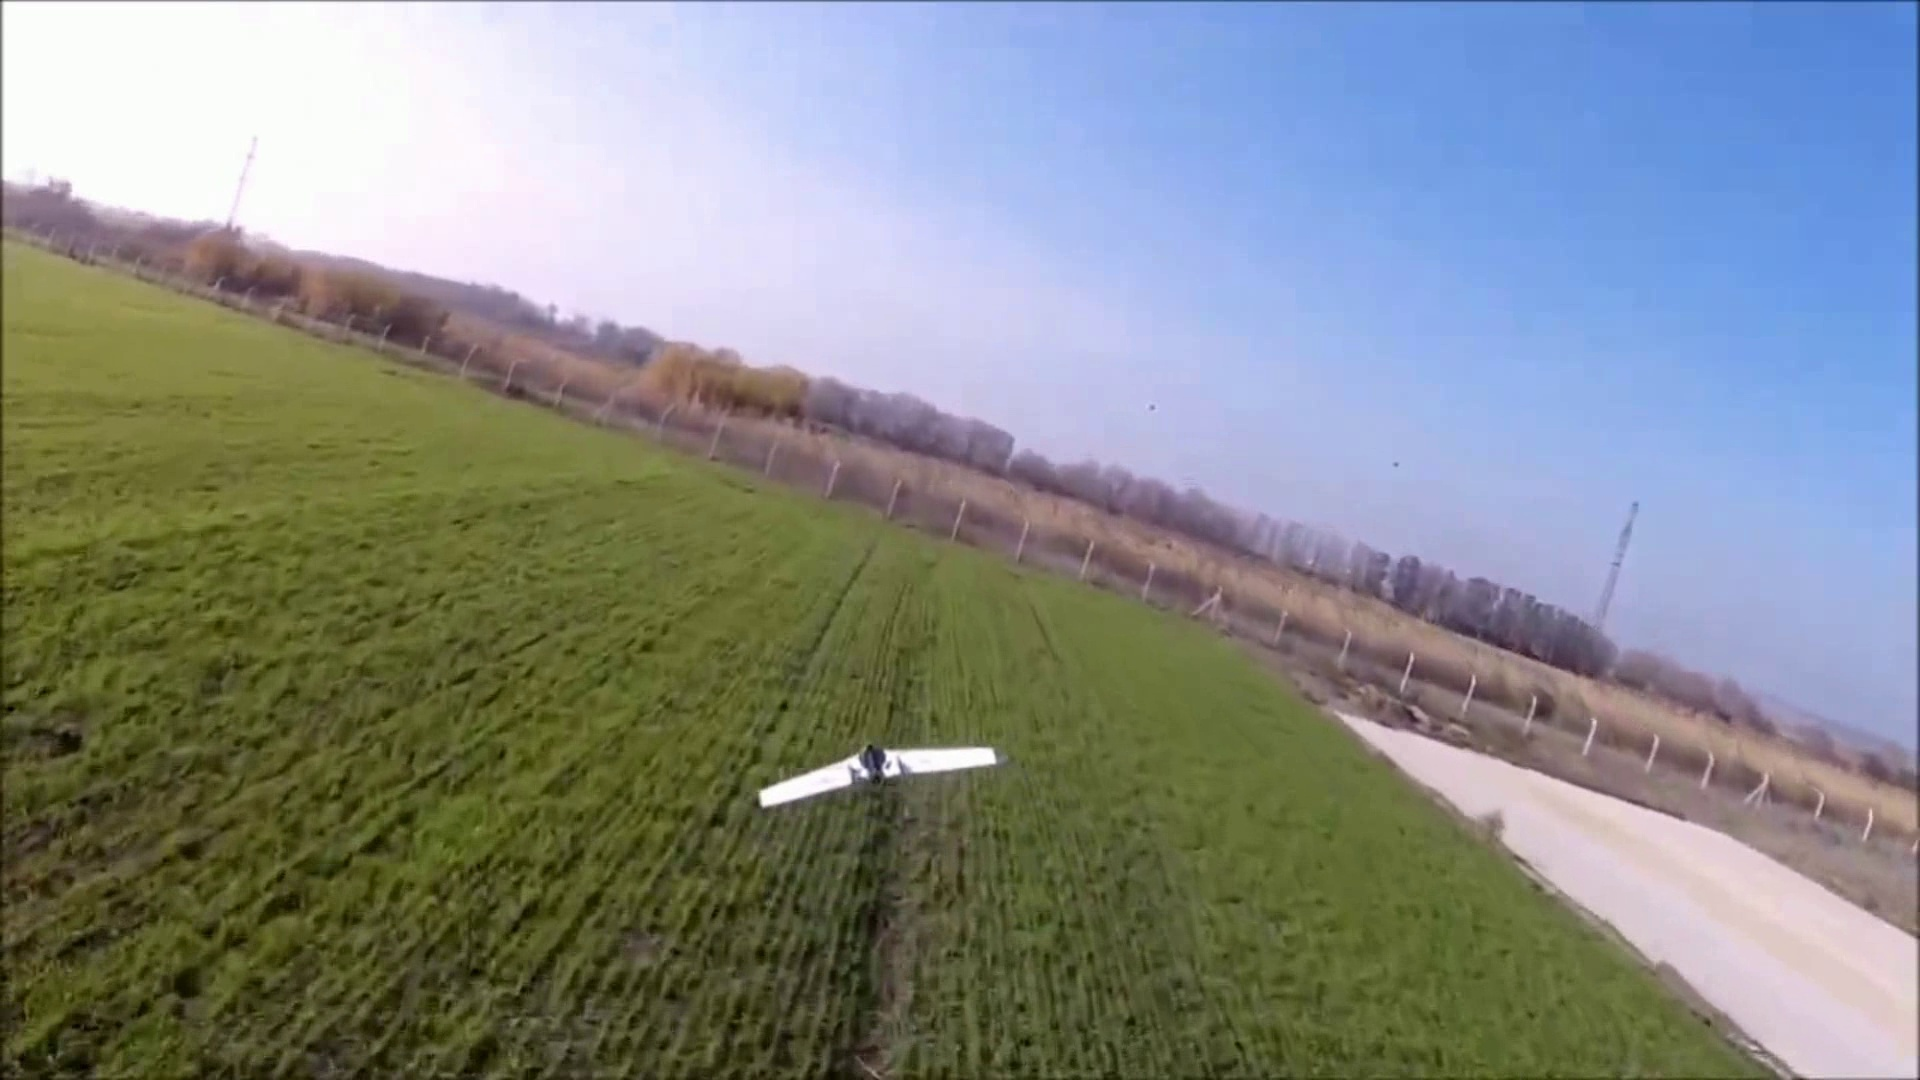airplane: (760, 741, 1004, 810)
